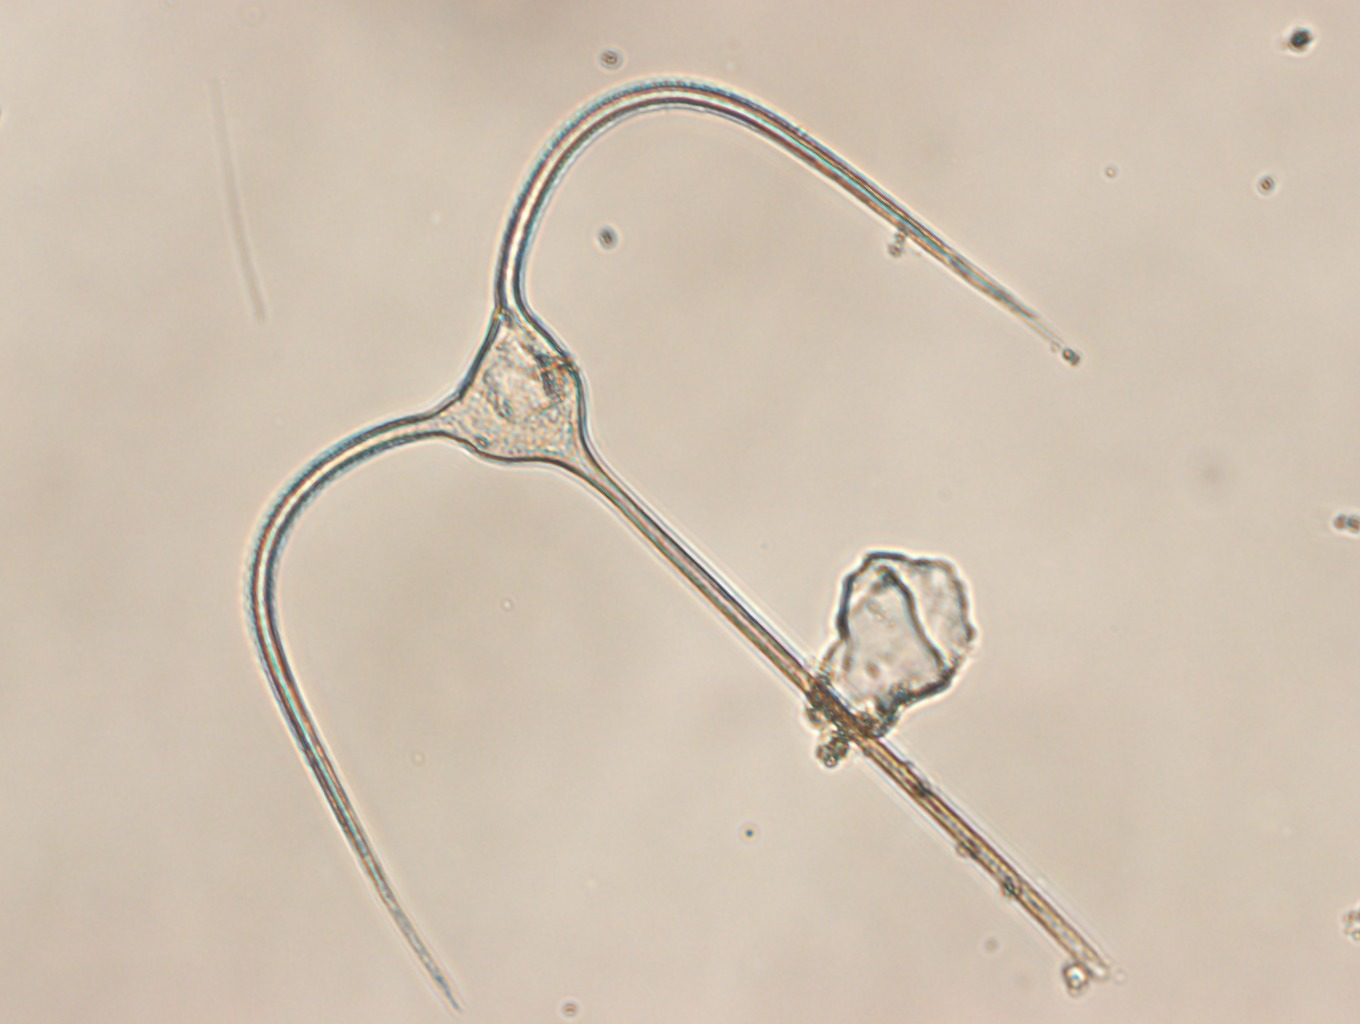ceratium trichoceros: (245, 76, 1115, 1016)
